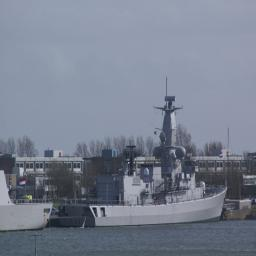Fragata: (54, 76, 231, 231)
